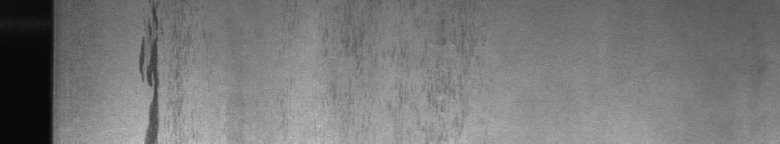hd: (140, 7, 160, 136)
